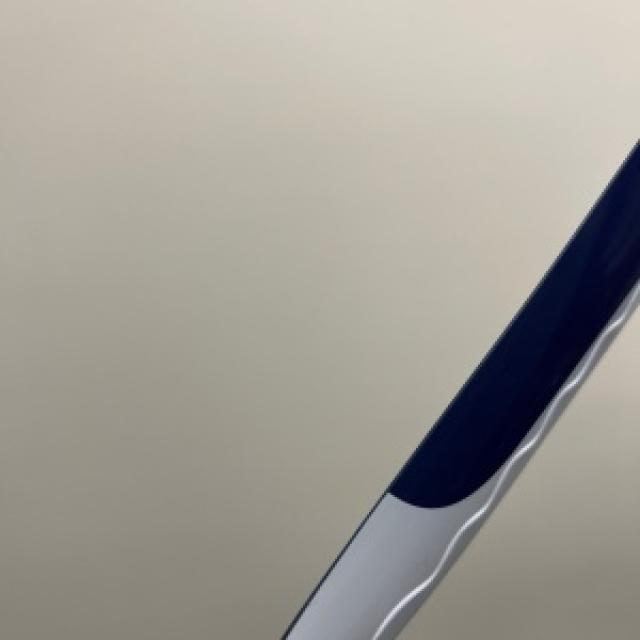healthy: (279, 139, 638, 638), (286, 401, 561, 638)
